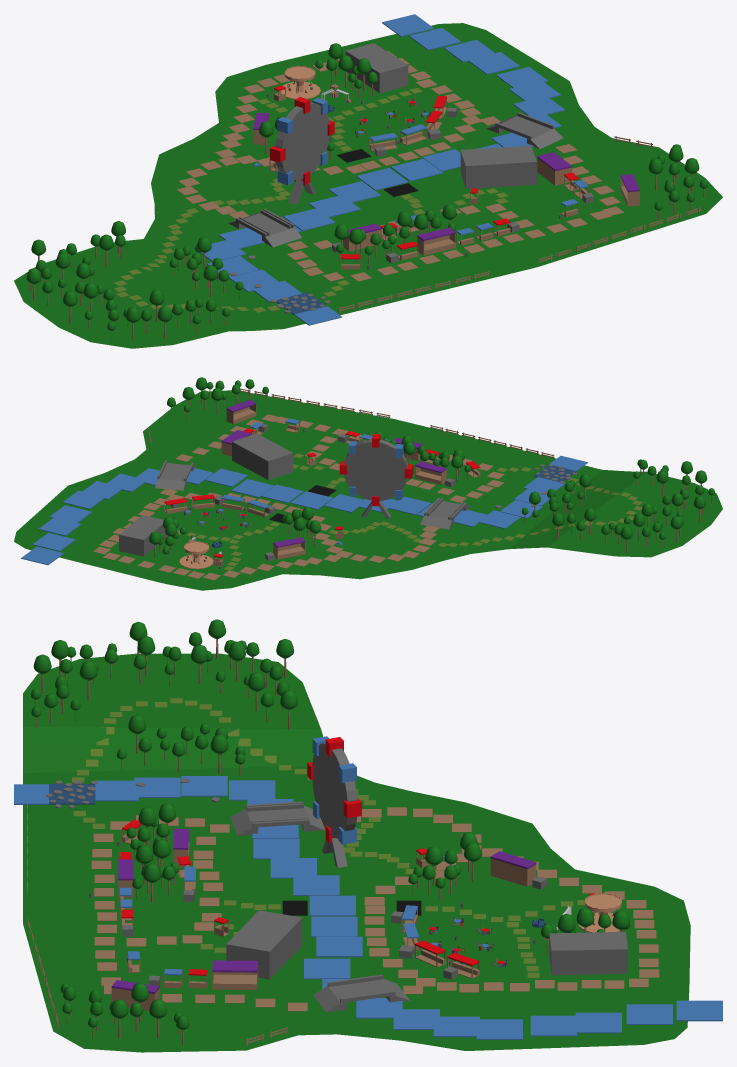
Rendered from Blockoutmap_versie2.fbx.
3 views of the same model, one above another, from view 1: azimuth 30°, elevation 25°; view 2: azimuth 150°, elevation 25°; view 3: azimuth 270°, elevation 25° (orthographic). The views are drawn at different scales.
Visible parts, largest first — view 1: Base.003, Pad.351, Boom.337, Pad.308, Reuzenrad.003, offroad.220, Spookslot?.002, kamelenrace ofzo.002, Brug1, Brug2.003, Zweefmolen.002, Attractie 1.004 (+3 smaller); view 2: Base.003, Pad.351, Boom.337, Pad.308, Reuzenrad.003, offroad.220, Spookslot?.002, kamelenrace ofzo.002, Brug1, Zweefmolen.002, Brug2.003, Base (+4 smaller); view 3: Base.003, Pad.351, Boom.337, Pad.308, offroad.220, Reuzenrad.003, Spookslot?.002, kamelenrace ofzo.002, Brug1, Brug2.003, Attractie 1.012, Attractie 1.015 (+4 smaller).
Part boxes in pixels (x1,y1,x2,y2): Base.003: [14, 23, 722, 348]; Pad.351: [194, 14, 565, 325]; Boom.337: [26, 43, 707, 339]; Pad.308: [177, 51, 623, 281]; Reuzenrad.003: [270, 97, 334, 204]; offroad.220: [114, 88, 508, 312]; Spookslot?.002: [460, 145, 536, 188]; kamelenrace ofzo.002: [345, 43, 408, 93]; Brug1: [486, 112, 563, 148]; Brug2.003: [228, 208, 302, 247]; Zweefmolen.002: [279, 65, 320, 99]; Attractie 1.004: [417, 227, 455, 255]; Base.003: [14, 390, 722, 590]; Pad.351: [21, 455, 587, 565]; Boom.337: [149, 377, 714, 561]; Pad.308: [93, 414, 504, 580]; Reuzenrad.003: [339, 434, 413, 518]; offroad.220: [177, 453, 642, 570]; Spookslot?.002: [232, 433, 293, 479]; kamelenrace ofzo.002: [119, 515, 167, 556]; Brug1: [155, 460, 195, 490]; Zweefmolen.002: [179, 541, 213, 569]; Brug2.003: [420, 498, 470, 529]; Base: [14, 509, 722, 590]; Base.003: [23, 653, 690, 1051]; Pad.351: [14, 776, 722, 1039]; Boom.337: [31, 619, 630, 1044]; Pad.308: [91, 807, 659, 1011]; offroad.220: [72, 698, 584, 977]; Reuzenrad.003: [307, 736, 361, 867]; Spookslot?.002: [226, 910, 302, 979]; kamelenrace ofzo.002: [549, 931, 627, 975]; Brug1: [313, 974, 409, 1012]; Brug2.003: [230, 801, 324, 835]; Attractie 1.012: [212, 960, 258, 989]; Attractie 1.015: [490, 851, 536, 886].
Size of the model in its own units: 30180 by 4407 by 23493.
